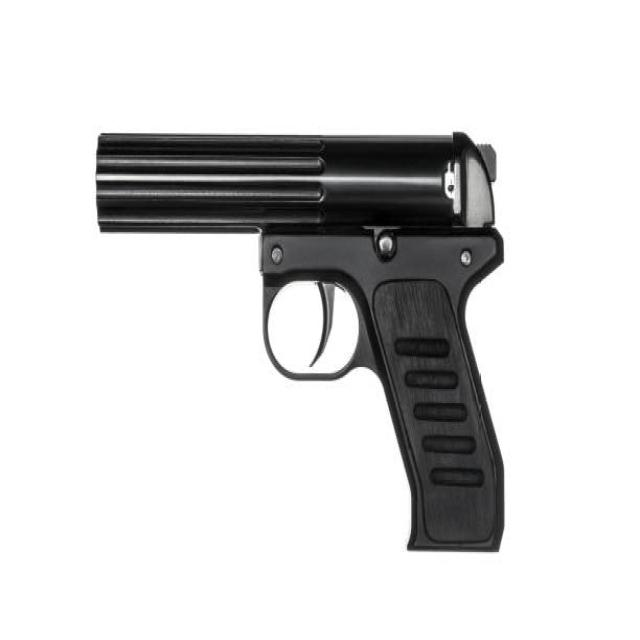pistol: (91, 122, 518, 566)
